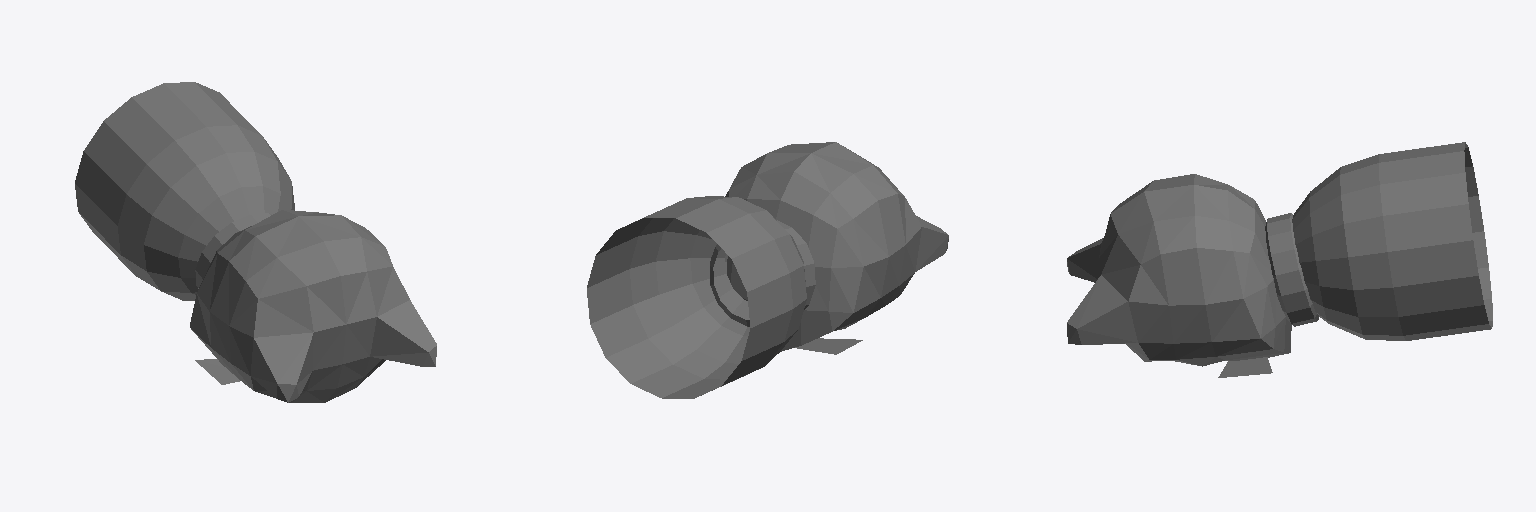
Rendered from cat.obj.
3 views of the same model, side by side, from view 1: azimuth 30°, elevation 25°; view 2: azimuth 150°, elevation 25°; view 3: azimuth 270°, elevation 25° (orthographic).
Parts seen in each view (by area): view 1: cat.001; view 2: cat.001; view 3: cat.001.
Part boxes in pixels (x1,y1,x2,y2): cat.001: (75, 82, 436, 402); cat.001: (587, 142, 948, 398); cat.001: (1067, 142, 1492, 377).
Bounding box in the file's own units: 1.92 × 2.31 × 4.24.